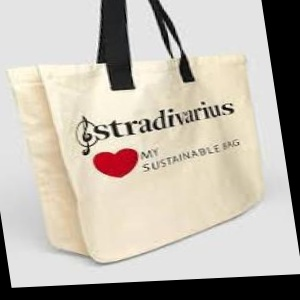stradivarius: (19, 68, 287, 179)
